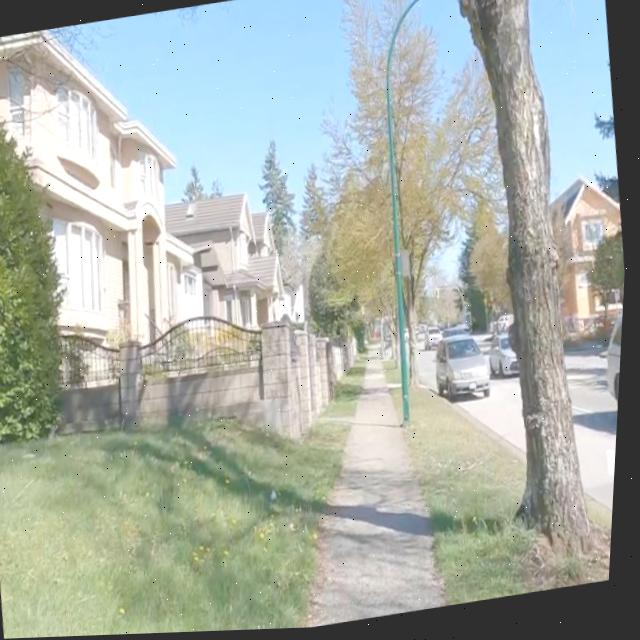Automobile: (439, 338, 493, 404), (610, 318, 626, 414), (495, 339, 520, 381), (429, 331, 444, 352)
Road: (574, 376, 622, 516), (460, 381, 529, 458), (462, 382, 529, 454), (580, 429, 622, 510), (572, 361, 617, 419), (424, 354, 441, 396)
Sidewalk: (317, 362, 449, 629)
